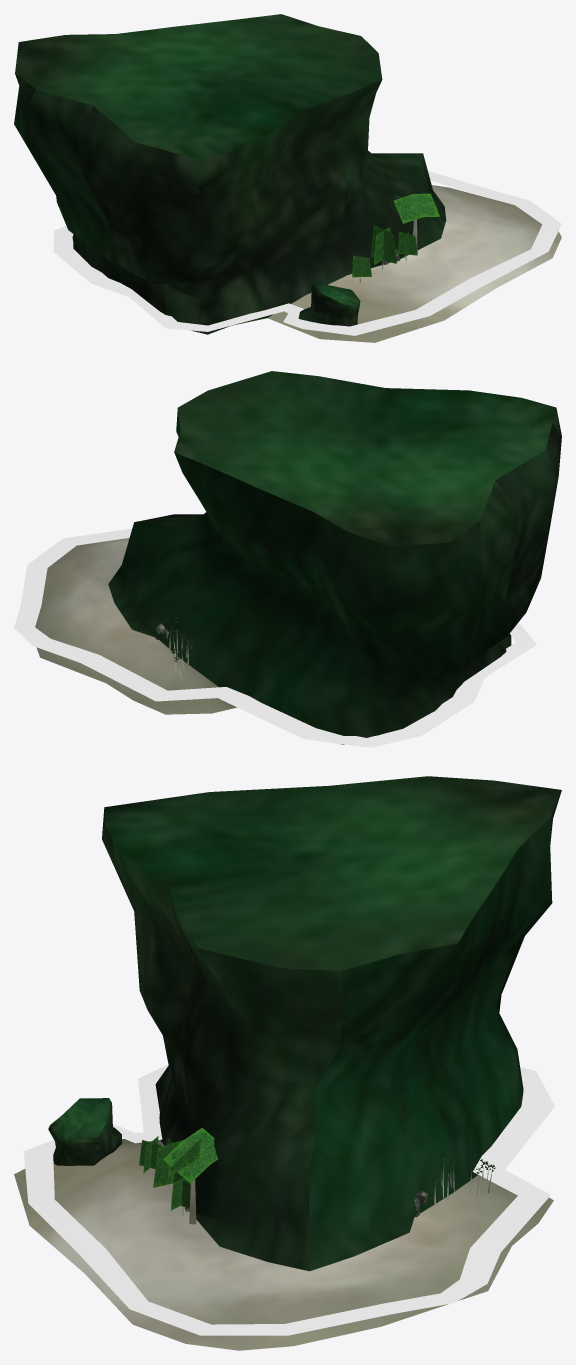
File: pir_m_are_isl_devilsAnvil_dock_lod.fbx
3 renders of one model, top to bottom at view 1: azimuth 30°, elevation 25°; view 2: azimuth 150°, elevation 25°; view 3: azimuth 270°, elevation 25°, orthographic. The views are drawn at different scales.
Visible parts, largest first — view 1: anvil, ground, dock_wave, hill, jungle_tree_a_Proxy_pasted__jungle_canopy_single_low, gen_tree_a_4Proxy_pasted__pPlane3; view 2: anvil, ground, dock_wave; view 3: anvil, ground, dock_wave, hill, jungle_tree_a_Proxy_pasted__jungle_canopy_single_low2.
Boxes of the visible parts, x1,y1,x2,y2 form: anvil: [14, 14, 446, 334]; ground: [267, 185, 561, 342]; dock_wave: [53, 170, 561, 335]; hill: [298, 282, 360, 326]; jungle_tree_a_Proxy_pasted__jungle_canopy_single_low: [394, 193, 439, 223]; gen_tree_a_4Proxy_pasted__pPlane3: [371, 225, 396, 263]; anvil: [108, 371, 561, 744]; ground: [35, 538, 236, 714]; dock_wave: [14, 528, 536, 747]; anvil: [102, 776, 561, 1271]; ground: [14, 1139, 553, 1350]; dock_wave: [23, 1064, 554, 1335]; hill: [48, 1098, 121, 1165]; jungle_tree_a_Proxy_pasted__jungle_canopy_single_low2: [163, 1127, 218, 1183].
Bounding box in the file's own units: 149864 × 62222 × 111914.
3 materials, 3 textured.
